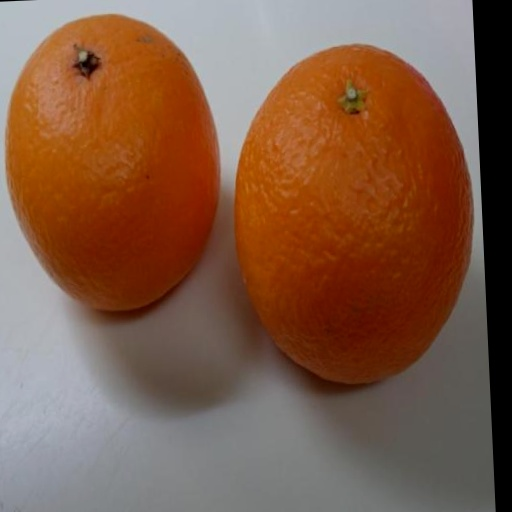fruit: (235, 46, 472, 383), (5, 15, 219, 310)
